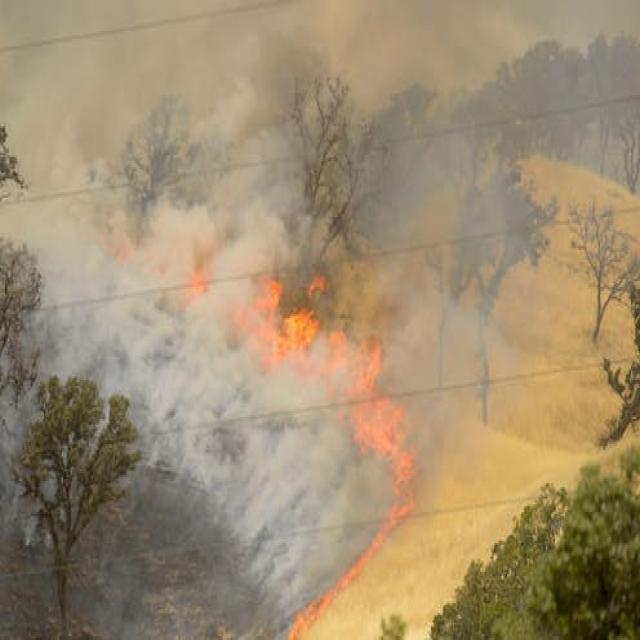Fire: (241, 263, 345, 393), (346, 331, 414, 434), (376, 414, 418, 492), (382, 502, 418, 537)
Smoke: (254, 9, 487, 143), (434, 62, 501, 468), (74, 222, 190, 402), (215, 444, 346, 564), (159, 282, 234, 419)
